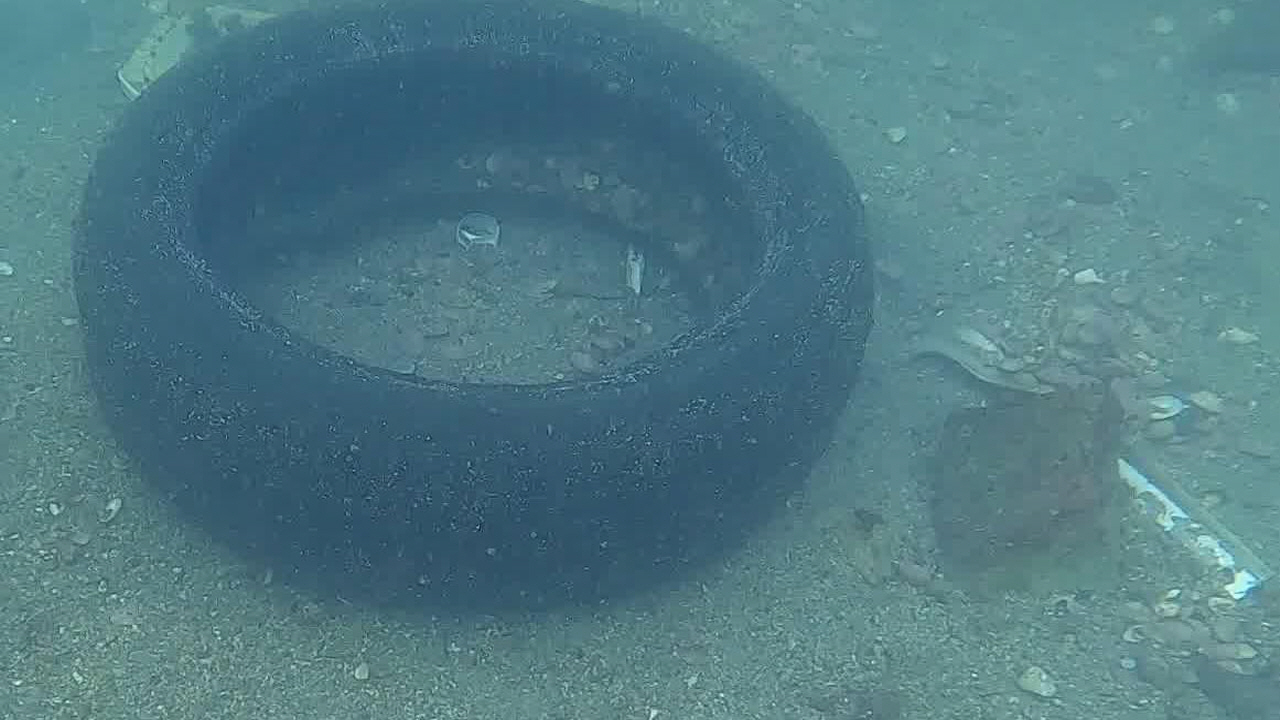tire: (70, 0, 875, 604)
